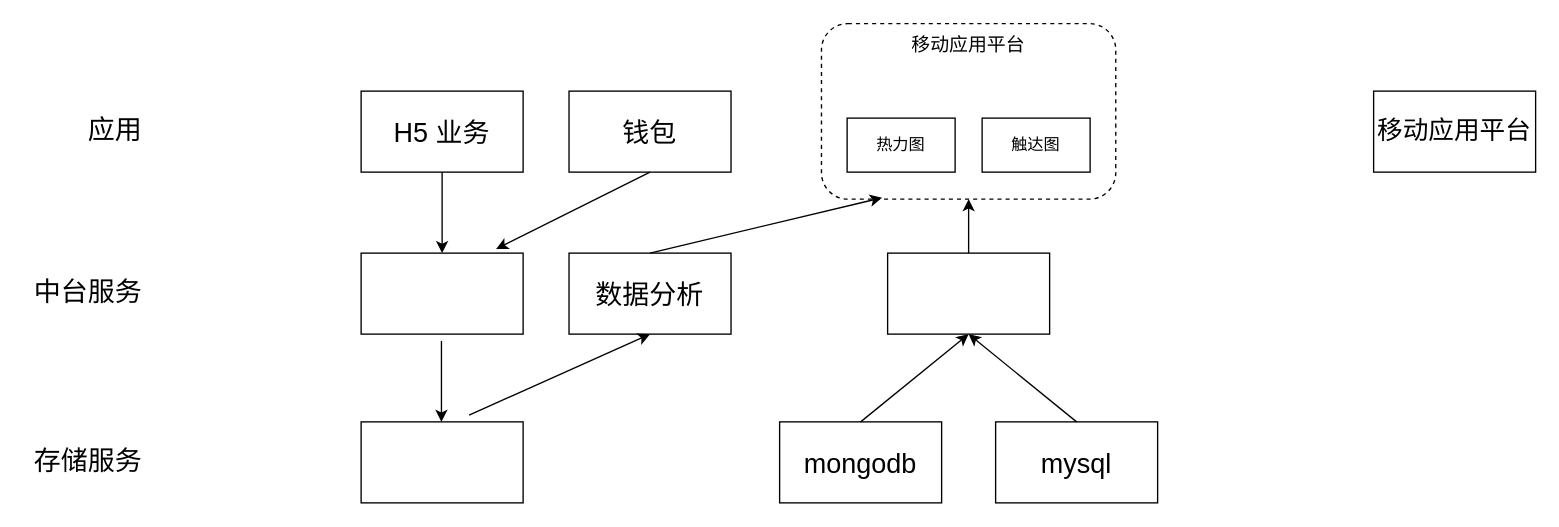
Some shapes in this 1559 by 527 pixel diagram are drawn without their labels. Each missing label, with the centre of its shape:
"埋点服务" belongs at (441,293).
"数仓" belongs at (441,462).
"魔方服务" belongs at (968,293).
